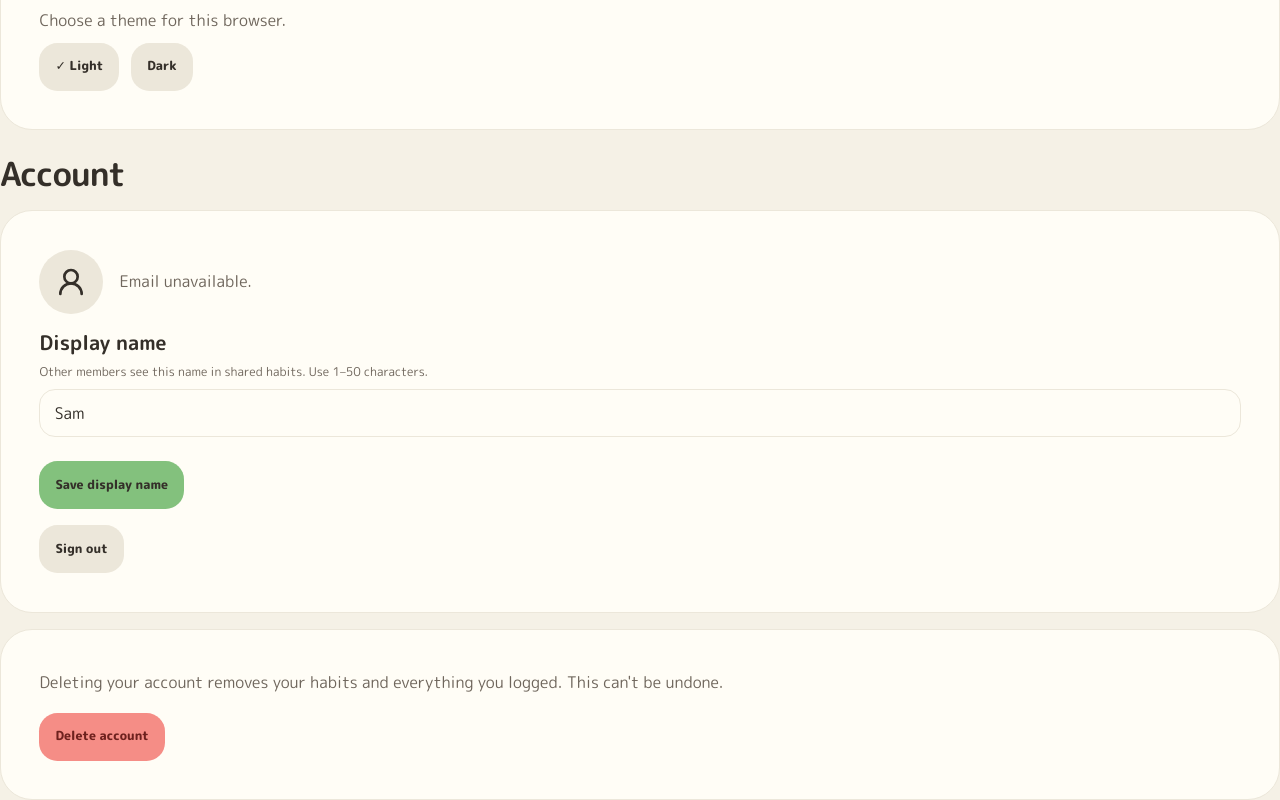
Test: sign out › shows an error and keeps the button when signing out fails
This screenshot has width=1280, height=800.
(page scrolled)
Click the button "Sign out" at (82, 549), box 39,525 -> 124,573
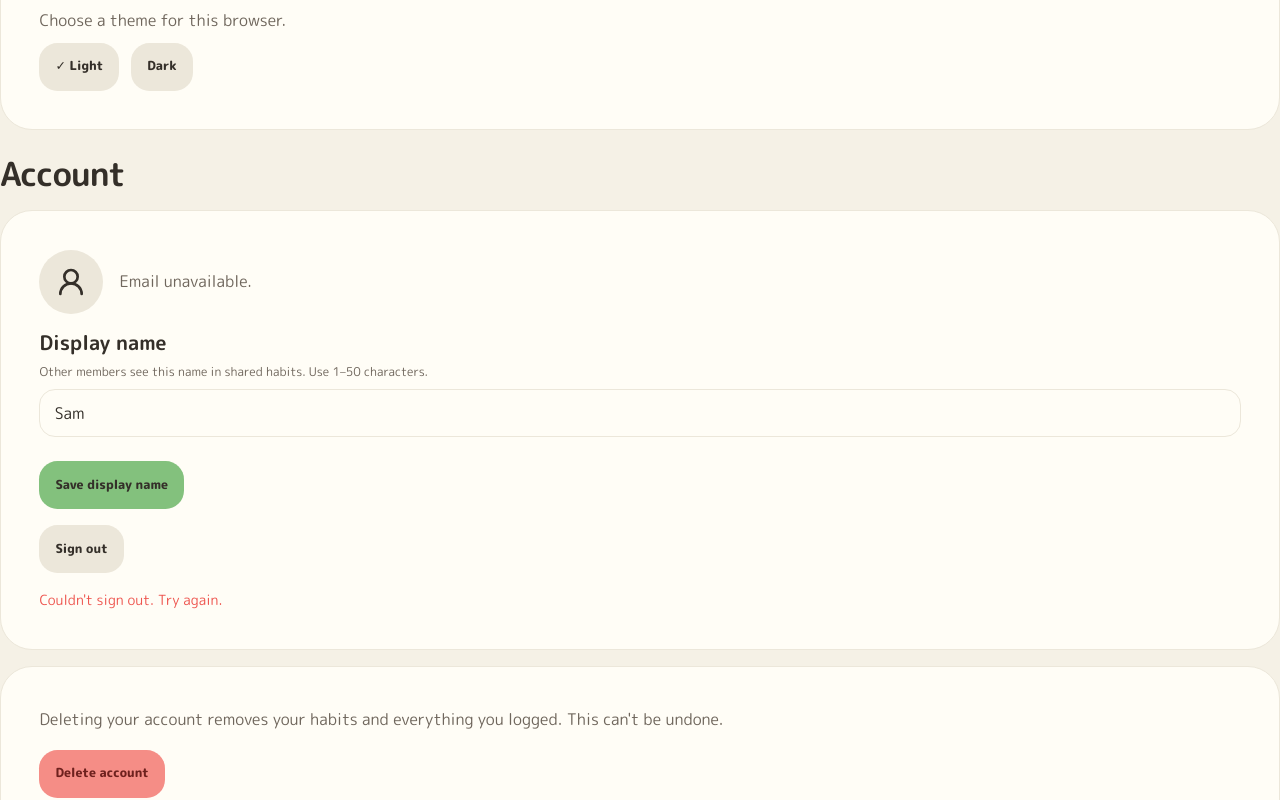
Expected: the message shows "Couldn't sign out", 39,590 -> 222,609
